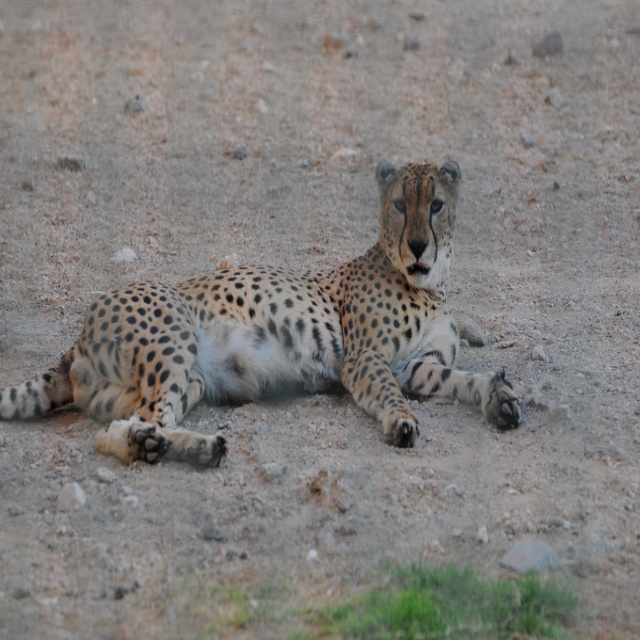Cheetah: (1, 154, 524, 472)
